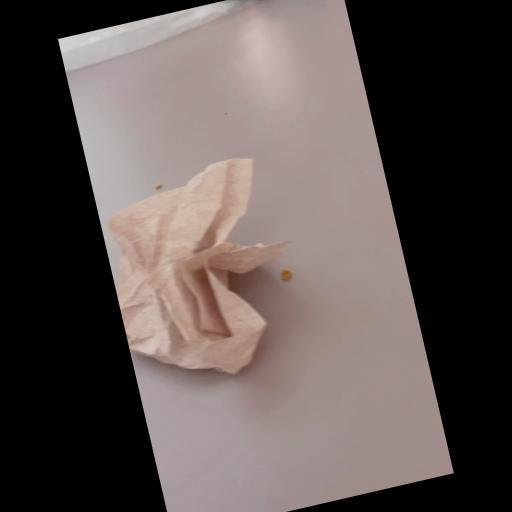napkin: (94, 150, 318, 392)
